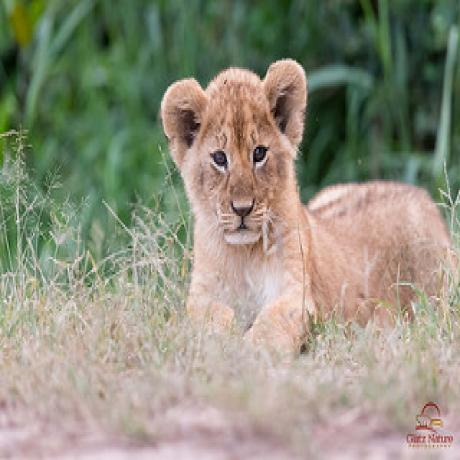Lion: (161, 59, 456, 339)
